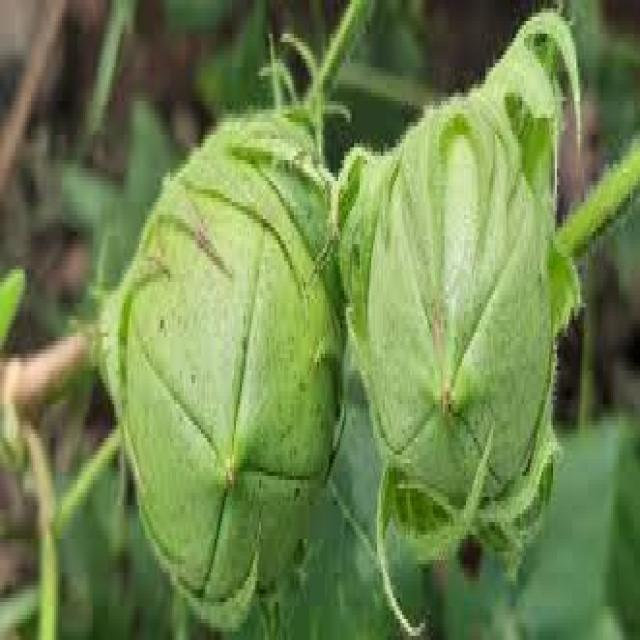Early Boll: (97, 94, 345, 624), (345, 85, 575, 543)
